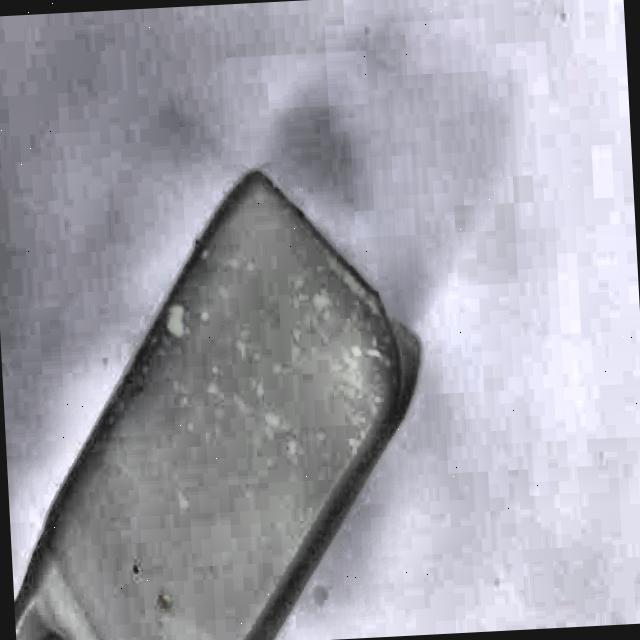plastic: (0, 161, 422, 640)
